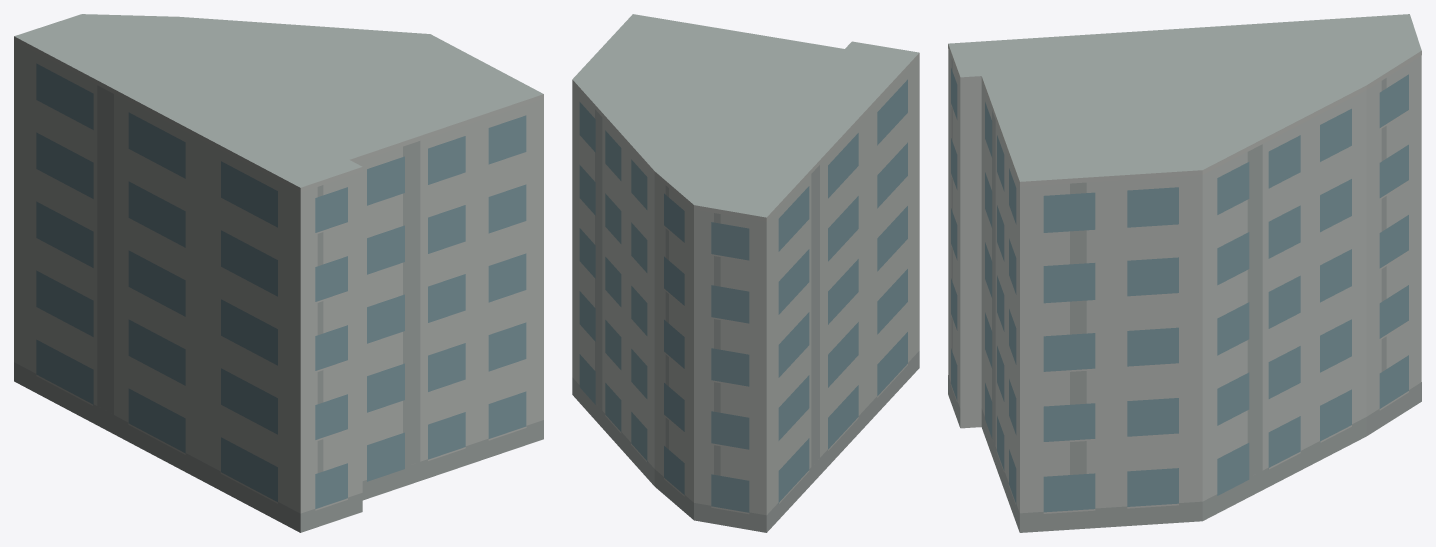
File: survey-upis-33012675.glb
3 views of the same model, side by side, from view 1: azimuth 30°, elevation 25°; view 2: azimuth 150°, elevation 25°; view 3: azimuth 270°, elevation 25° (orthographic). The views are drawn at different scales.
Parts seen in each view (by area): view 1: survey-upis-33012675.tmp; view 2: survey-upis-33012675.tmp; view 3: survey-upis-33012675.tmp.
Part boxes in pixels (left/top/right/bottom): survey-upis-33012675.tmp: left=14, top=14, right=543, bottom=532; survey-upis-33012675.tmp: left=572, top=14, right=919, bottom=532; survey-upis-33012675.tmp: left=948, top=14, right=1421, bottom=532.
Size of the model in its own units: 17.75 by 17.3 by 21.16.
